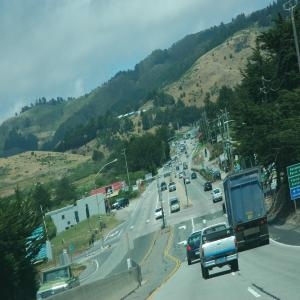Vehicle-registration-plate: (218, 258, 226, 266), (196, 251, 201, 256)
